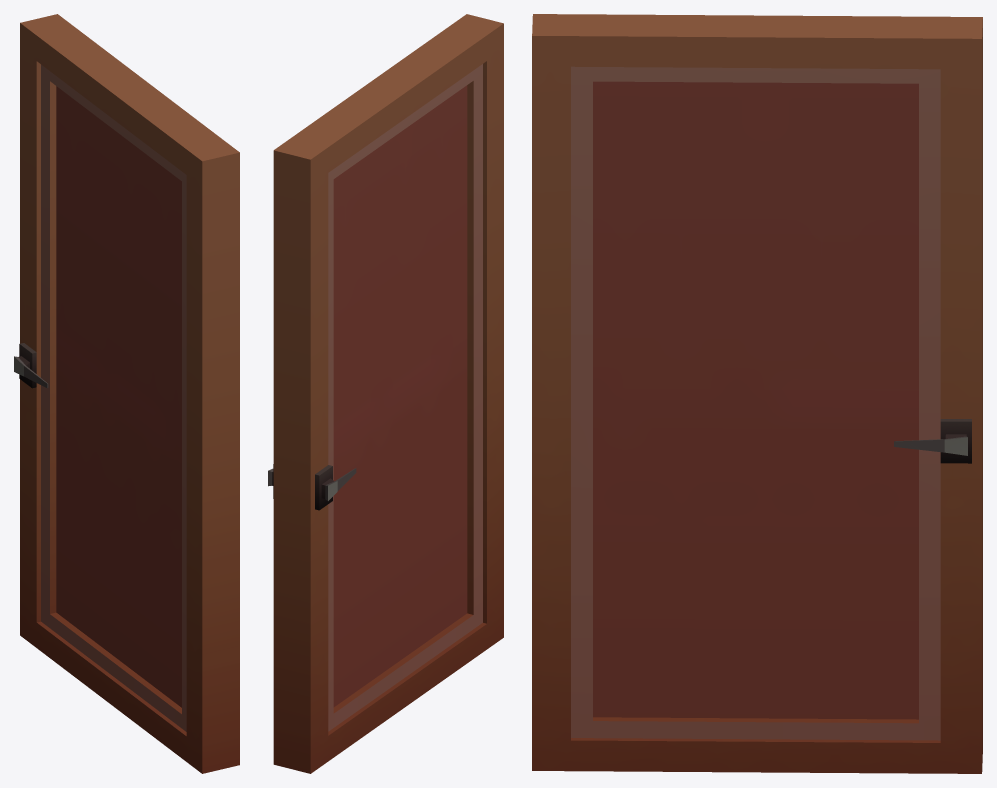
Rendered from SM_Door_1.fbx.
3 renders of one model, left to right at view 1: azimuth 30°, elevation 25°; view 2: azimuth 150°, elevation 25°; view 3: azimuth 270°, elevation 25°, orthographic. The views are drawn at different scales.
Parts seen in each view (by area): view 1: Back_Door_Mash; view 2: Back_Door_Mash; view 3: Back_Door_Mash.
Boxes of the visible parts, bbox=[...] form: Back_Door_Mash: bbox=[14, 14, 239, 773]; Back_Door_Mash: bbox=[268, 14, 503, 773]; Back_Door_Mash: bbox=[532, 14, 982, 773].
Bounding box in the file's own units: 0.1561 × 1.51 × 0.8417.
